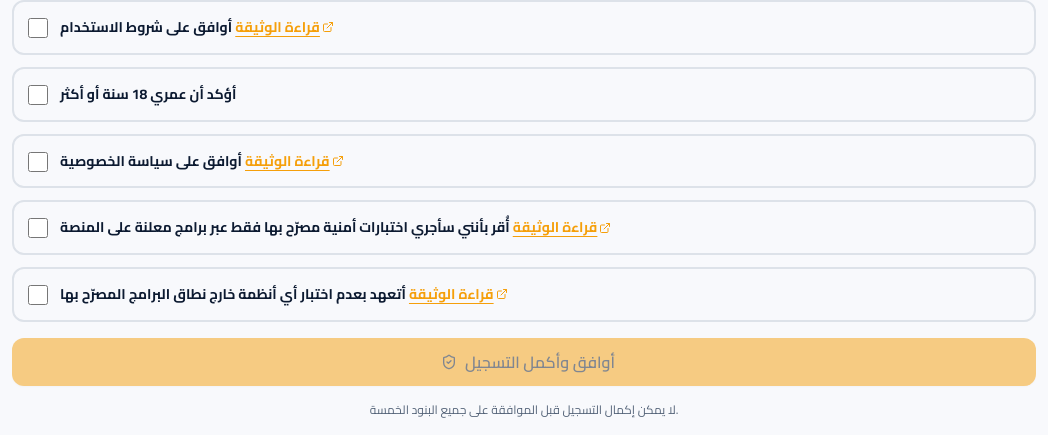
Test: ConsentChecklist (registration mode) › submit button stays disabled until ALL five checkboxes are ticked
Expected: the button "أوافق وأكمل التسجيل" is disabled, top-left (12, 338), bottom-right (1036, 386)
Click the checkbox labelled "أوافق على شروط الاستخدام": (38, 28) top-left (28, 18), bottom-right (48, 38)
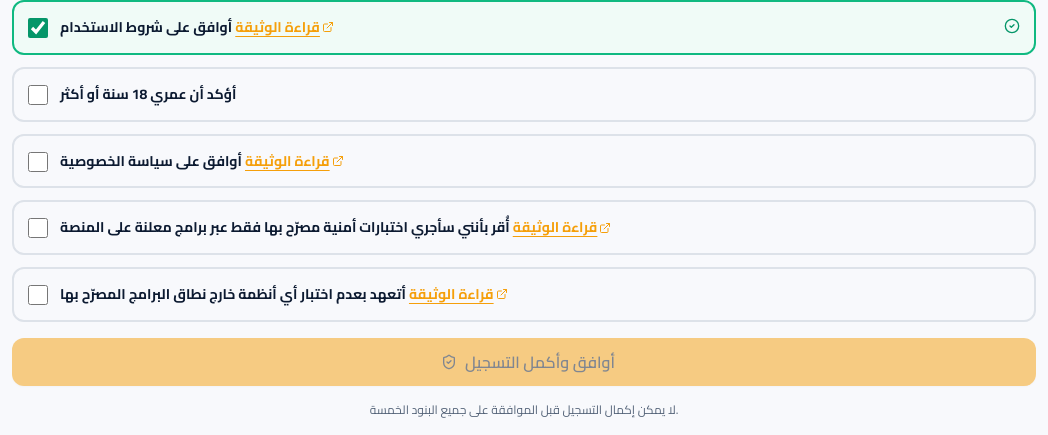
Click the checkbox labelled "أؤكد أن عمري 18 سنة أو أكثر": (38, 95) top-left (28, 85), bottom-right (48, 105)
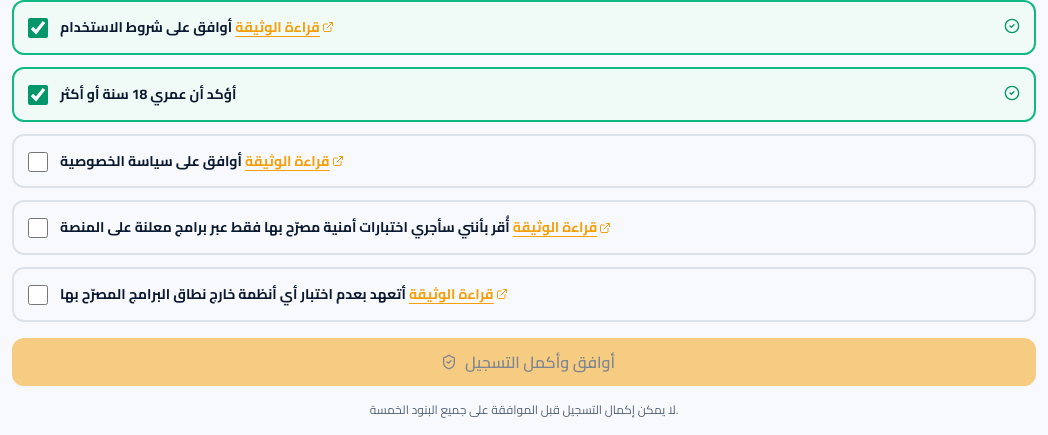
Click the checkbox labelled "أوافق على سياسة الخصوصية": (38, 162) top-left (28, 152), bottom-right (48, 172)
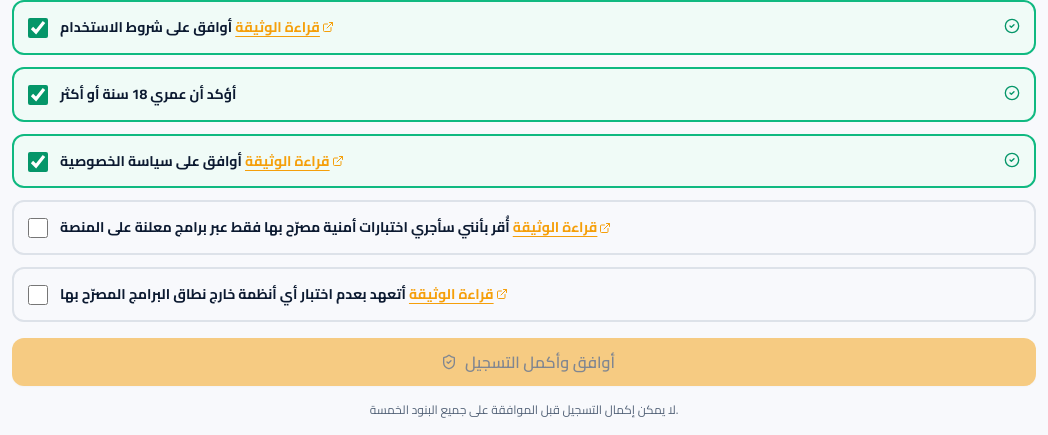
Click the checkbox labelled "أُقر بأنني سأجري اختبارات أمنية مصرّح بها فقط عبر برامج معلنة على المنصة": (38, 228) top-left (28, 218), bottom-right (48, 238)
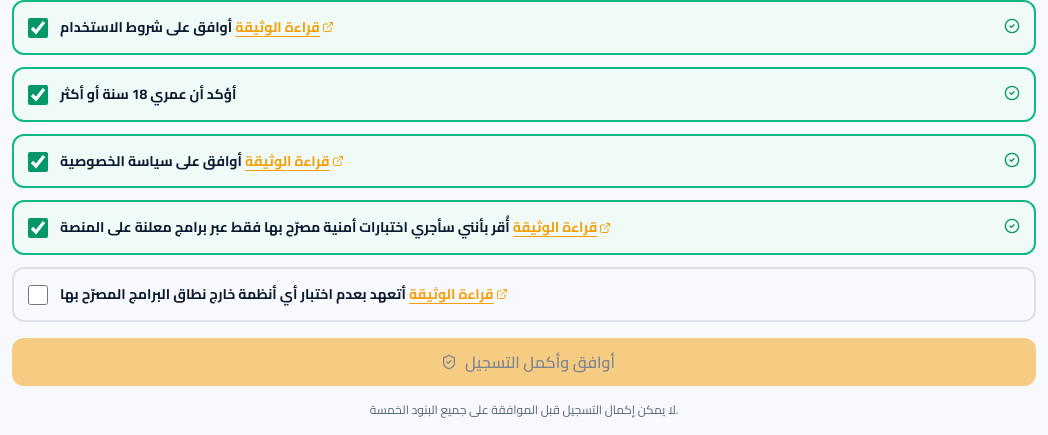
Expected: the button "أوافق وأكمل التسجيل" is disabled, top-left (12, 338), bottom-right (1036, 386)
Click the checkbox labelled "أتعهد بعدم اختبار أي أنظمة خارج نطاق البرامج المصرّح بها": (38, 295) top-left (28, 285), bottom-right (48, 305)
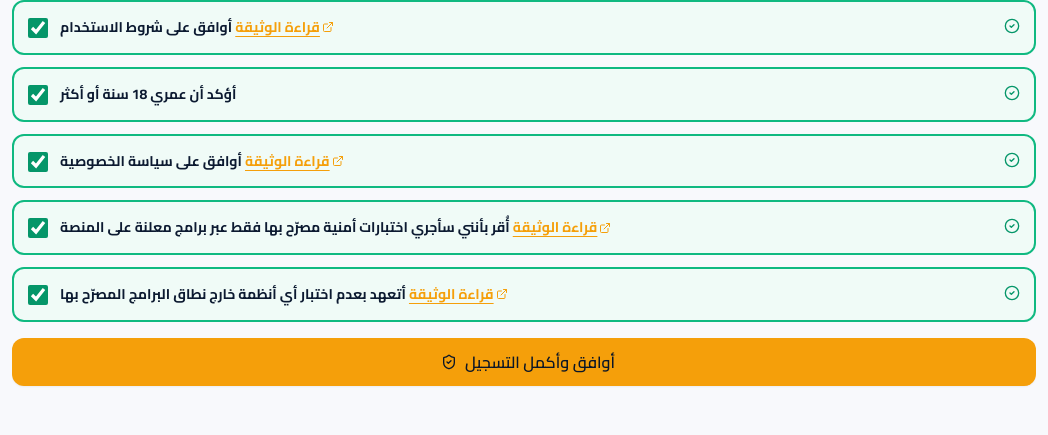
Expected: the button "أوافق وأكمل التسجيل" is enabled, top-left (12, 338), bottom-right (1036, 386)
